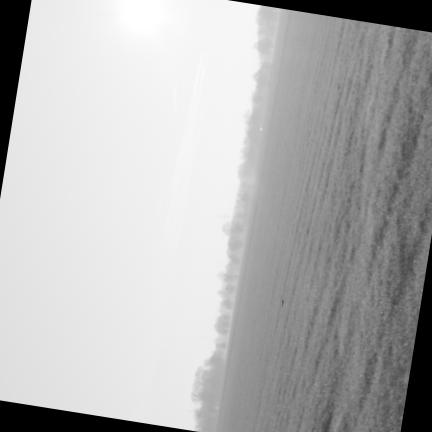Shahed: (281, 299, 284, 306)
